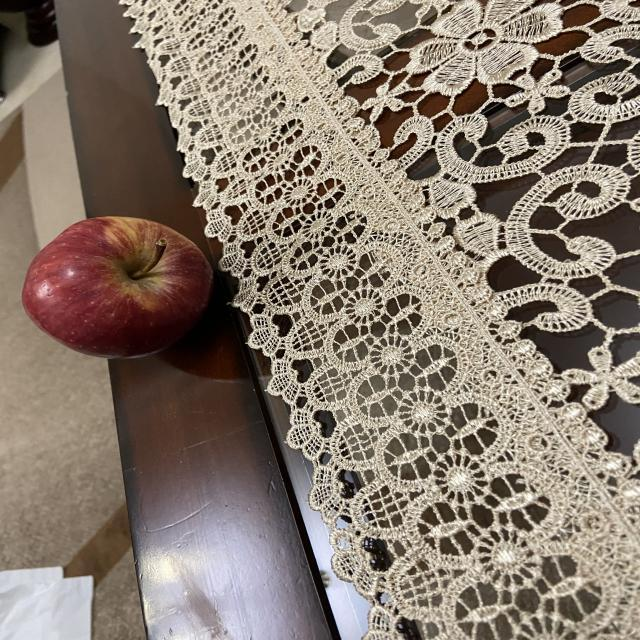apple: (18, 210, 218, 364)
